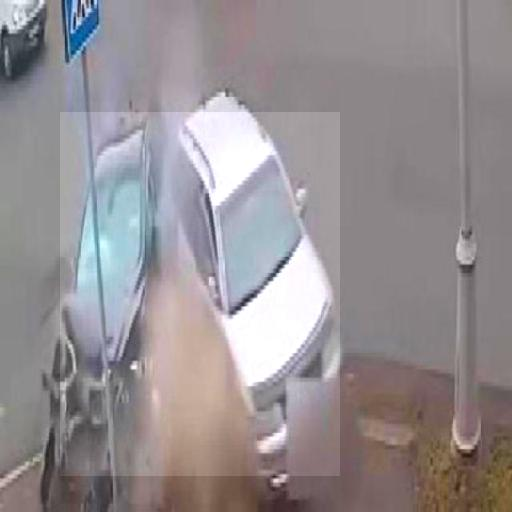小汽车撞小汽车: (60, 112, 340, 476)
